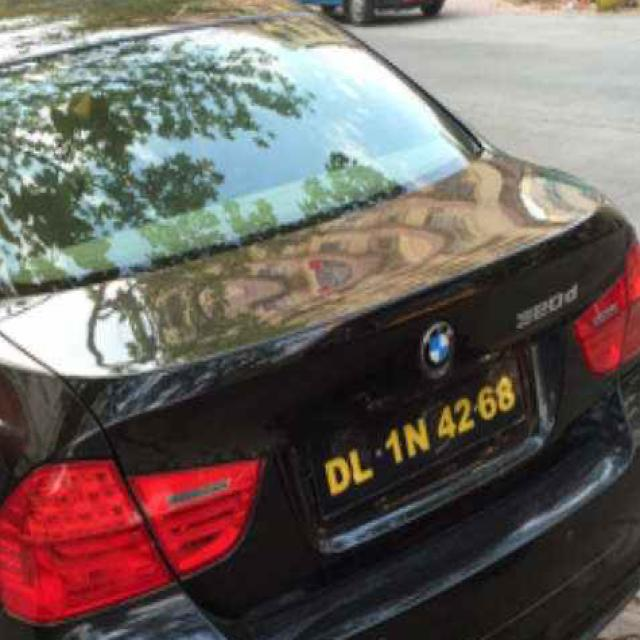license_plate: (310, 340, 527, 545)
